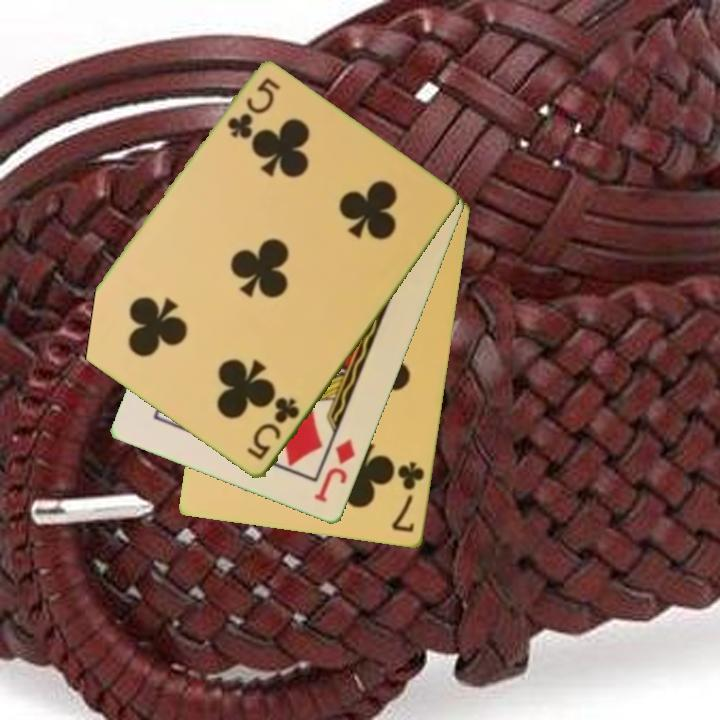5c: (243, 394, 303, 464), (223, 74, 283, 142)
7c: (388, 458, 428, 536)
Jd: (311, 436, 359, 506)
